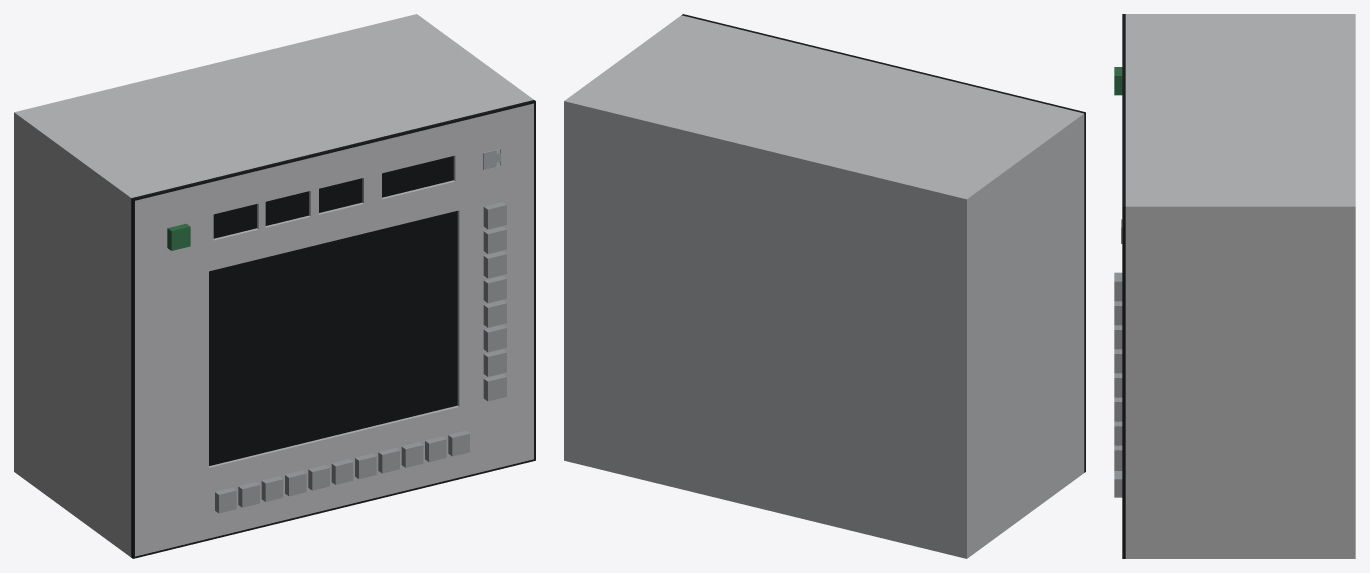
Rendered from lkc_x_2000s.obj.
3 renders of one model, left to right at view 1: azimuth 30°, elevation 25°; view 2: azimuth 150°, elevation 25°; view 3: azimuth 270°, elevation 25°, orthographic. The views are drawn at different scales.
Parts seen in each view (by area): view 1: housing, face_05, face_03, face_01, face_02, face_04, face_10, border_top, face_06, border_left, border_bottom, border_right; view 2: housing, border_top, border_left; view 3: housing, border_right, border_top.
Part boxes in pixels (left/top/right/bottom): housing: left=14, top=14, right=533, bottom=557; face_05: left=135, top=388, right=533, bottom=556; face_03: left=135, top=271, right=208, bottom=485; face_01: left=135, top=103, right=533, bottom=233; face_02: left=135, top=162, right=533, bottom=289; face_04: left=457, top=192, right=533, bottom=406; face_10: left=453, top=136, right=533, bottom=181; border_top: left=131, top=100, right=535, bottom=201; face_06: left=135, top=214, right=213, bottom=259; border_left: left=131, top=200, right=134, bottom=556; border_bottom: left=131, top=459, right=535, bottom=558; border_right: left=534, top=103, right=535, bottom=459; housing: left=564, top=15, right=1084, bottom=558; border_top: left=681, top=14, right=1085, bottom=114; border_left: left=1084, top=114, right=1085, bottom=470; housing: left=1125, top=14, right=1355, bottom=558; border_right: left=1122, top=208, right=1125, bottom=557; border_top: left=1122, top=14, right=1125, bottom=208.
Bounding box in the file's own units: 0.34 × 0.29 × 0.18.
